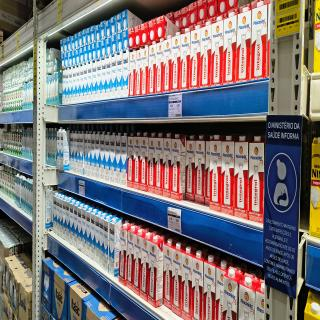Milk: (249, 133, 264, 223), (234, 131, 249, 219), (220, 130, 235, 218), (309, 134, 320, 238), (236, 7, 251, 82), (171, 132, 186, 200), (223, 12, 237, 84), (150, 235, 163, 308), (203, 250, 216, 319), (192, 246, 204, 320), (189, 22, 202, 89), (212, 17, 224, 88), (200, 18, 212, 88), (182, 239, 192, 320), (182, 31, 194, 98), (225, 263, 239, 320), (164, 234, 173, 312), (185, 132, 195, 202), (216, 256, 226, 320), (173, 240, 181, 317), (163, 131, 172, 198), (108, 218, 118, 278), (162, 34, 172, 92), (134, 226, 142, 297), (142, 230, 150, 300), (172, 29, 181, 90), (155, 128, 163, 196), (127, 223, 135, 291), (120, 222, 128, 286), (140, 130, 148, 192), (304, 289, 320, 320), (148, 129, 155, 195), (120, 134, 128, 187), (60, 129, 70, 171), (156, 38, 163, 94), (149, 41, 156, 94), (134, 130, 140, 190), (103, 214, 109, 272), (99, 213, 105, 268), (128, 134, 134, 188), (142, 44, 148, 97), (115, 134, 121, 185), (110, 133, 116, 184), (45, 186, 52, 229), (129, 52, 136, 95), (105, 133, 110, 183), (100, 131, 105, 181), (95, 132, 100, 180), (66, 196, 71, 244), (70, 197, 75, 245), (56, 69, 62, 106), (148, 21, 158, 43), (156, 17, 166, 38), (198, 0, 208, 21), (180, 8, 190, 28), (188, 4, 198, 24), (140, 24, 149, 46), (207, 0, 218, 18), (91, 132, 95, 178), (87, 131, 91, 177), (60, 194, 64, 240), (80, 132, 84, 175), (76, 131, 80, 174), (56, 193, 60, 236), (72, 131, 76, 173), (53, 193, 57, 235), (134, 25, 141, 49), (128, 28, 135, 51), (121, 10, 129, 29), (110, 18, 118, 36), (99, 22, 107, 40), (29, 181, 33, 216), (84, 131, 87, 177), (22, 177, 26, 211), (116, 13, 123, 32), (70, 130, 73, 172), (117, 34, 124, 52), (100, 39, 107, 57), (218, 0, 227, 14), (53, 59, 63, 71), (111, 37, 118, 54), (105, 21, 112, 38), (95, 25, 102, 42), (106, 39, 112, 57), (12, 243, 20, 256), (26, 83, 30, 109), (96, 42, 102, 59), (90, 26, 96, 43), (87, 44, 93, 61), (78, 31, 84, 48), (53, 71, 56, 104), (91, 44, 97, 60), (2, 131, 6, 154), (5, 246, 14, 256), (123, 32, 128, 50), (86, 27, 92, 42), (82, 30, 88, 45), (74, 34, 80, 49), (48, 75, 51, 105), (84, 46, 89, 62), (23, 84, 26, 110), (49, 49, 56, 60), (76, 49, 80, 66), (80, 48, 84, 64), (7, 132, 10, 152), (10, 174, 12, 198), (3, 171, 5, 194), (6, 173, 8, 195), (12, 132, 14, 154), (18, 89, 20, 110), (28, 58, 32, 68), (50, 61, 53, 73), (23, 72, 26, 82), (29, 70, 32, 80), (26, 61, 28, 72), (26, 71, 28, 82), (24, 62, 26, 72)
